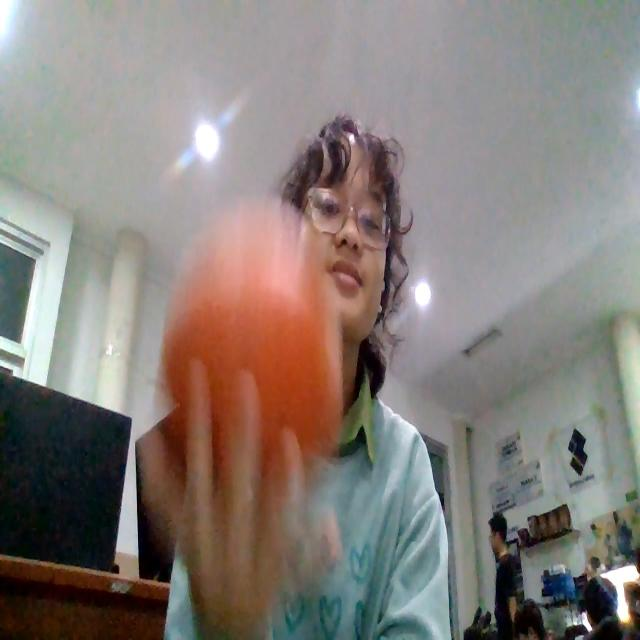ball: (164, 245, 336, 471)
